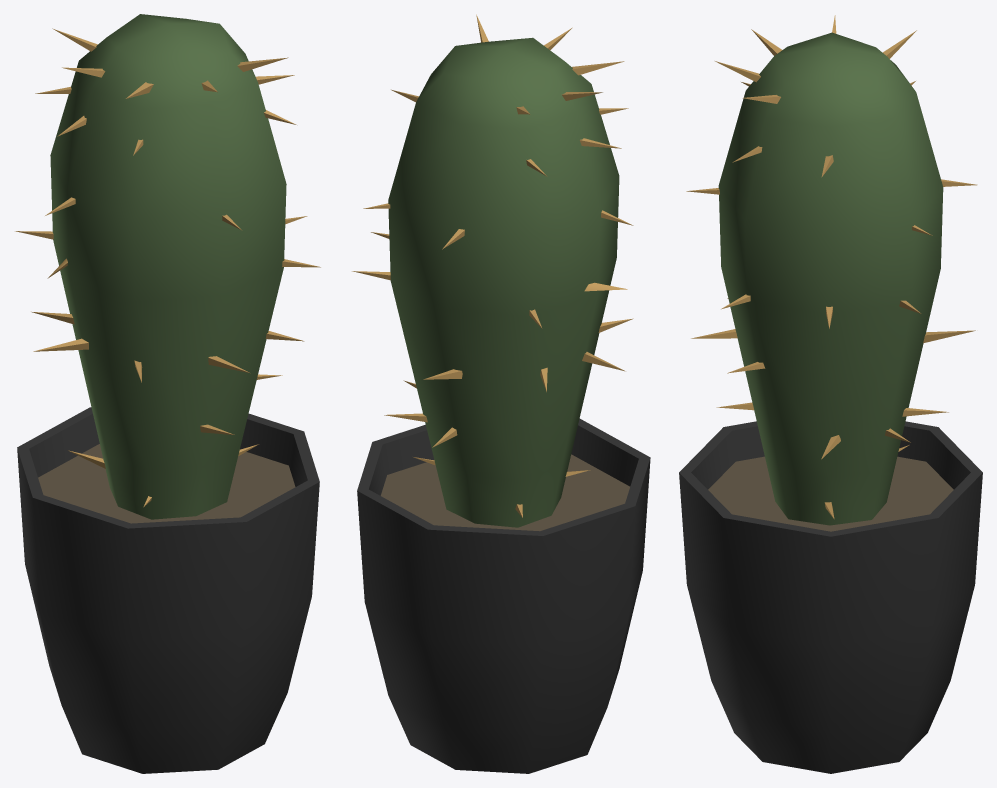
The model's file is houseplant_3.glb.
3 renders of one model, left to right at view 1: azimuth 30°, elevation 25°; view 2: azimuth 150°, elevation 25°; view 3: azimuth 270°, elevation 25°, orthographic. The views are drawn at different scales.
Parts seen in each view (by area): view 1: Houseplant_3; view 2: Houseplant_3; view 3: Houseplant_3.
Boxes of the visible parts, x1,y1,x2,y2 form: Houseplant_3: [15, 14, 320, 773]; Houseplant_3: [352, 14, 650, 773]; Houseplant_3: [679, 15, 982, 773].
Bounding box in the file's own units: 0.3426 × 0.8449 × 0.3383.
